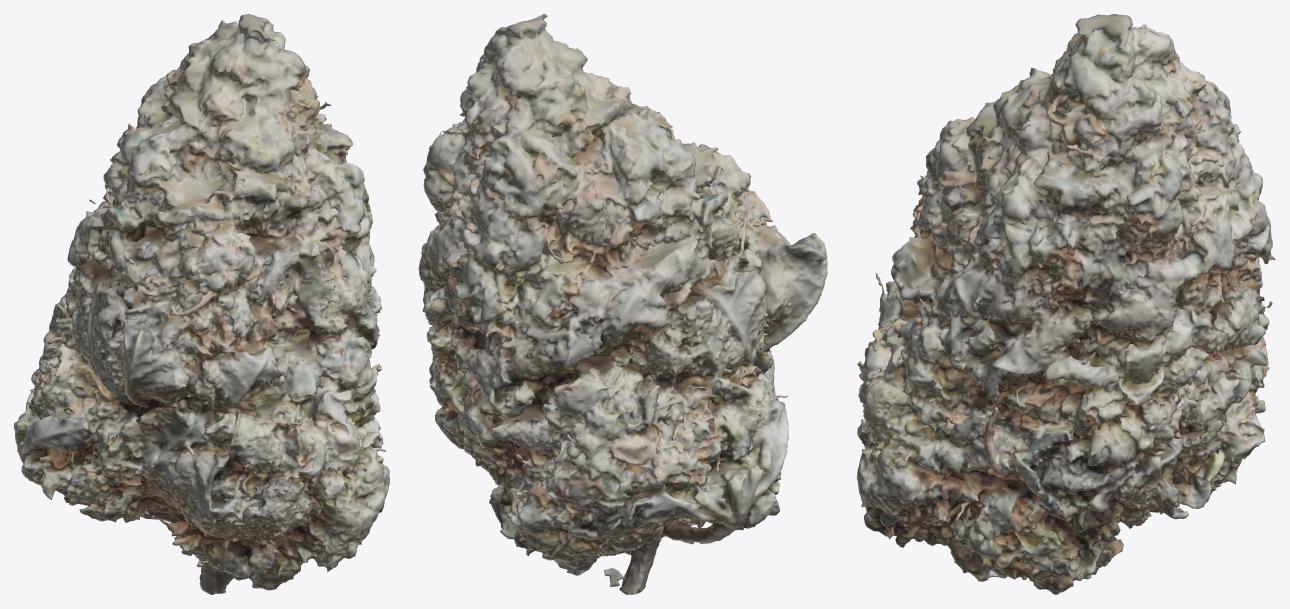
File: bud-transformed.glb
The picture shows the model from 3 angles, left to right: view 1: azimuth 30°, elevation 25°; view 2: azimuth 150°, elevation 25°; view 3: azimuth 270°, elevation 25°; orthographic projection. The views are drawn at different scales.
Parts seen in each view (by area): view 1: meshNode; view 2: meshNode; view 3: meshNode.
Part boxes in pixels (x1,y1,x2,y2): meshNode: (14,14,389,594); meshNode: (418,14,827,594); meshNode: (856,14,1275,594).
Bounding box in the file's own units: 19.84 × 31.83 × 20.14.
